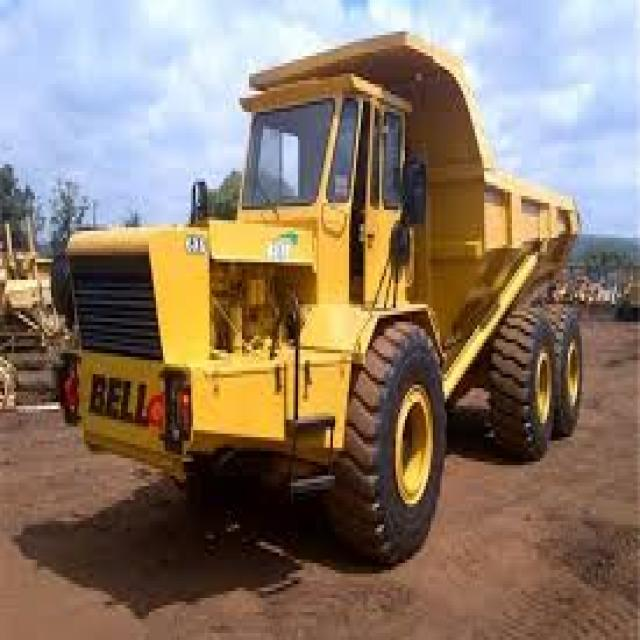dump_truck: (63, 21, 596, 556)
